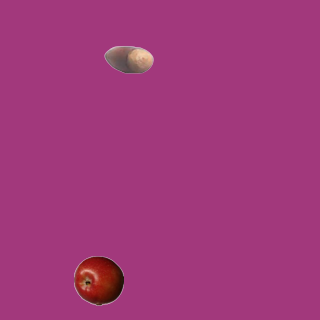Apple Braeburn: (73, 255, 123, 305)
Hazelnut: (103, 34, 153, 84)
